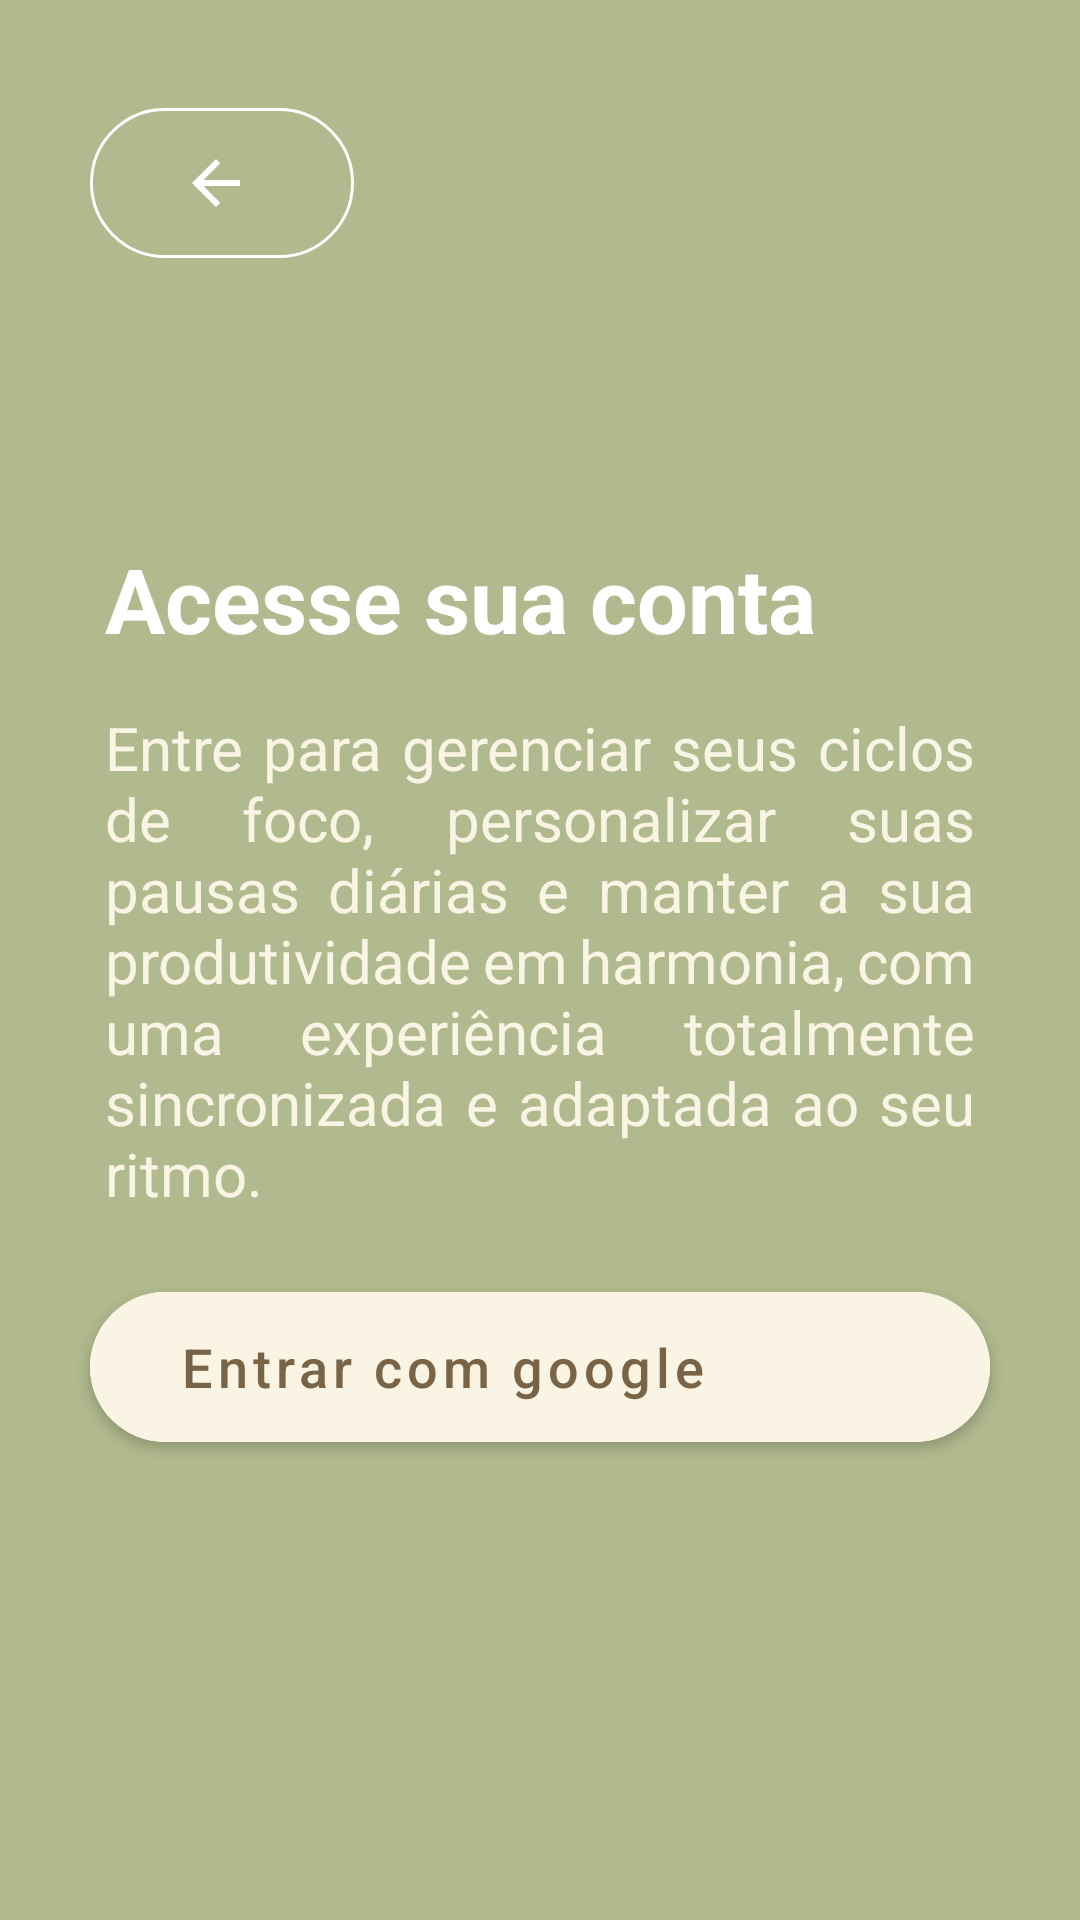

Where to tap for icons on this 1080 × 1920 app screen, as (x=x, y=y):
arrow back: (x=222, y=183)
